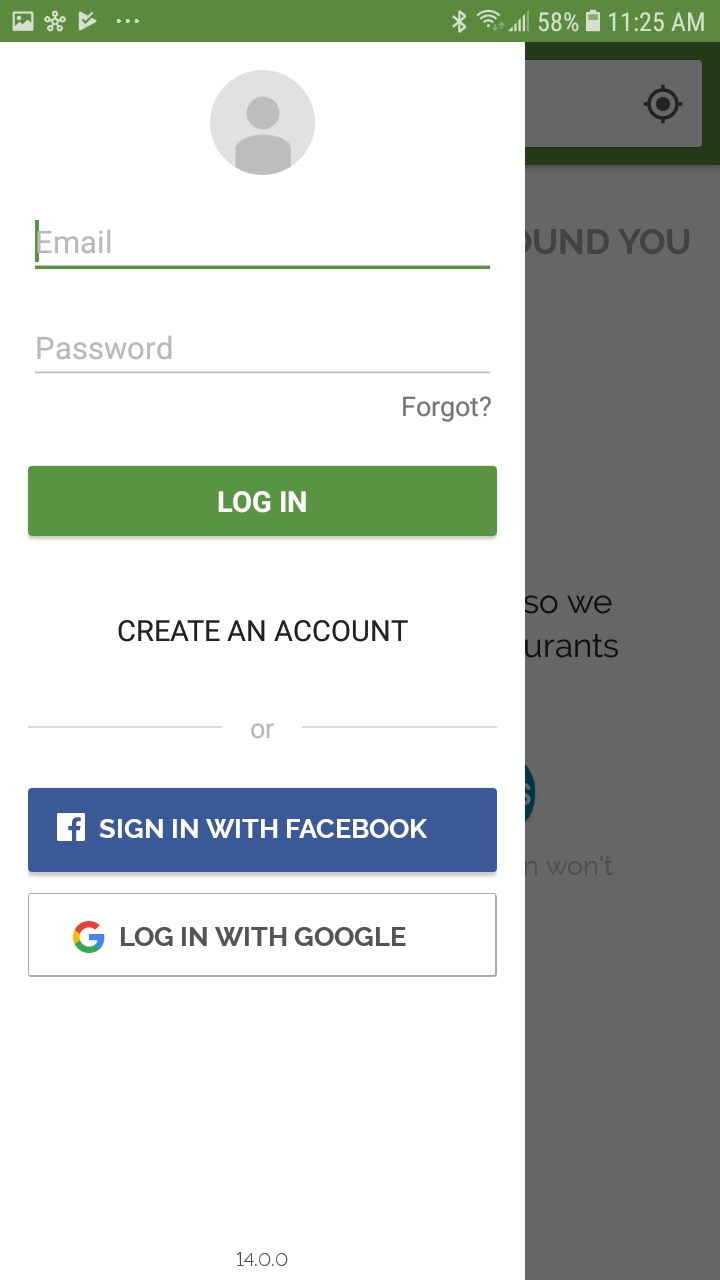Drawer: (1, 42, 526, 1280)
EditText: (35, 221, 490, 271), (36, 335, 491, 375)
Icon: (210, 71, 317, 177)
Text: (119, 620, 409, 643), (38, 336, 173, 361), (403, 396, 492, 423), (37, 229, 112, 254), (237, 1251, 289, 1267), (251, 722, 275, 739)
TextButton: (29, 788, 498, 873), (28, 893, 498, 977), (28, 466, 498, 537)
UpperTaskBar: (1, 1, 720, 42)
